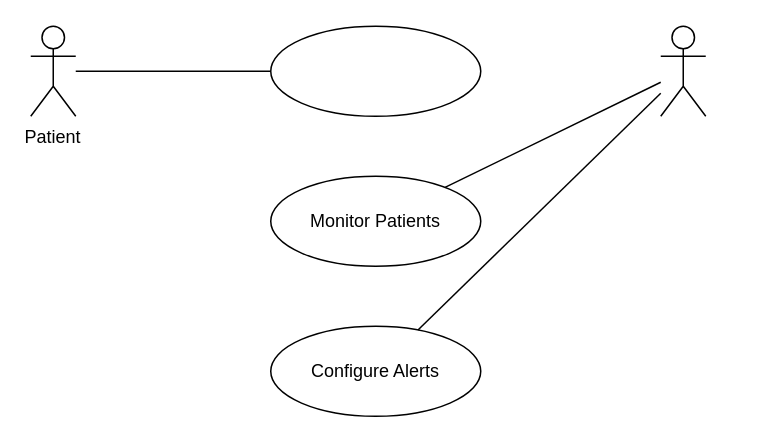
The diagram is 762 pixels wide and 443 high, and some of its shapes have lost their labels. Here are the shapes that lost their labels. From the top down, the box of each, then its label:
(269, 25, 481, 116): Transmit Vital Signs
(659, 25, 706, 116): Medical Staff
